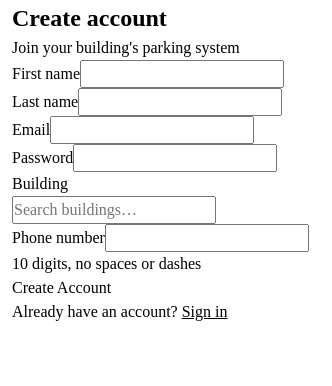
registerForm › renders building options in the dropdown
Click the field labelled "Building": {"x": 114, "y": 210} [12,196,216,224]
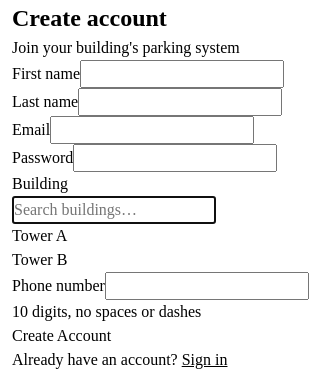
Check: the option "Tower A" is shown, box [12,227,67,244]
Check: the option "Tower B" is shown, box [12,251,67,268]
